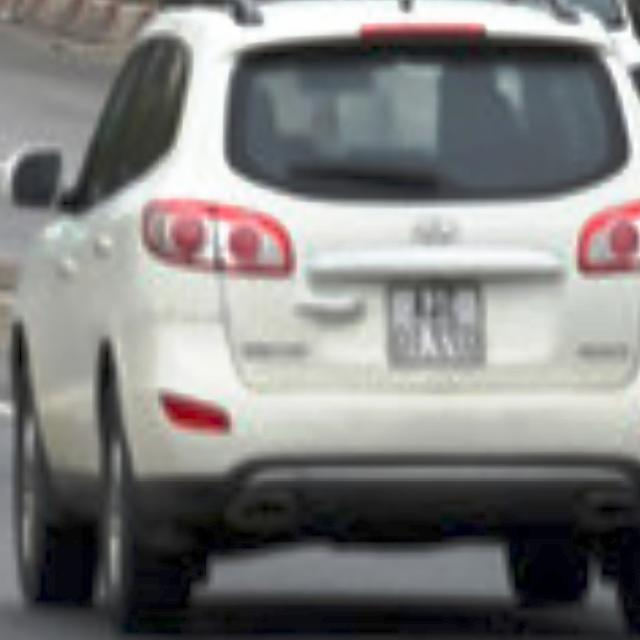Car: (7, 0, 640, 639)
